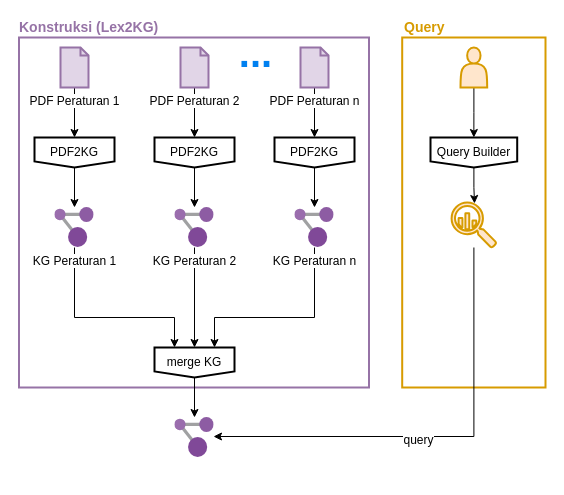
Image size: 564x495. Some labels were removed from this diagram. The shapes that lost their labels are listed below. From the top down, each one's box as (x1, y1, x2, y2) in pixels, then its label:
(459, 46, 488, 88): Client
(450, 201, 497, 248): SPARQL Query
(174, 417, 214, 457): KG Peraturan Perundang-undangan
